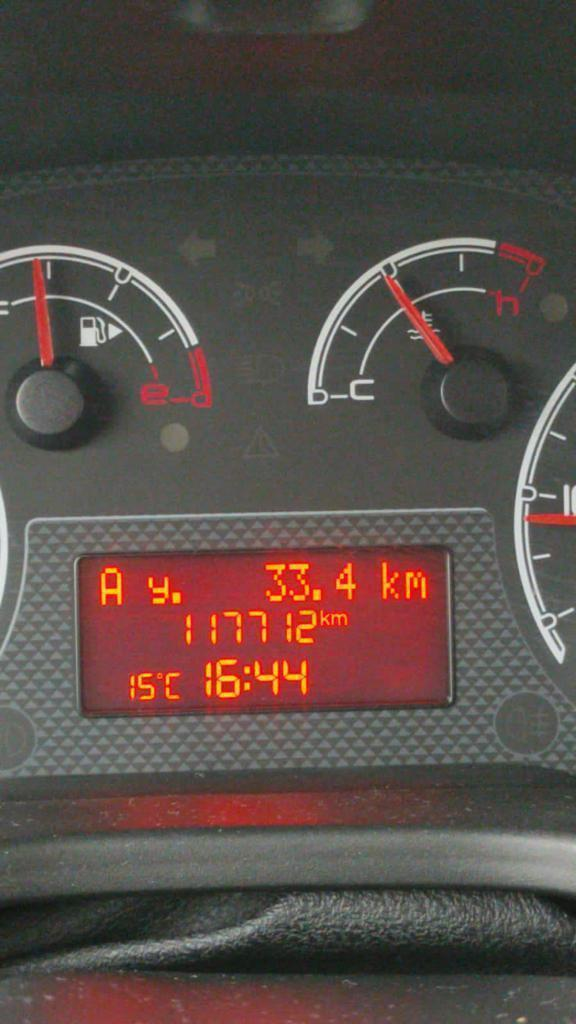,: (311, 585, 323, 602), (170, 591, 182, 605)
1: (282, 609, 294, 647), (183, 612, 195, 646), (203, 658, 212, 703), (208, 612, 218, 645), (127, 668, 136, 703)
2: (296, 608, 315, 647)
3: (261, 562, 286, 603), (289, 562, 310, 603)
4: (282, 658, 309, 697), (253, 658, 278, 696), (335, 562, 358, 600)
5: (137, 671, 156, 700)
6: (215, 656, 240, 700)
7: (247, 607, 269, 644), (222, 608, 243, 643)
X: (94, 563, 123, 604), (402, 568, 432, 603), (379, 559, 400, 605), (147, 572, 167, 606), (163, 668, 182, 702), (331, 609, 350, 628), (242, 663, 250, 697), (318, 606, 329, 626)
odometer: (71, 541, 457, 721)
